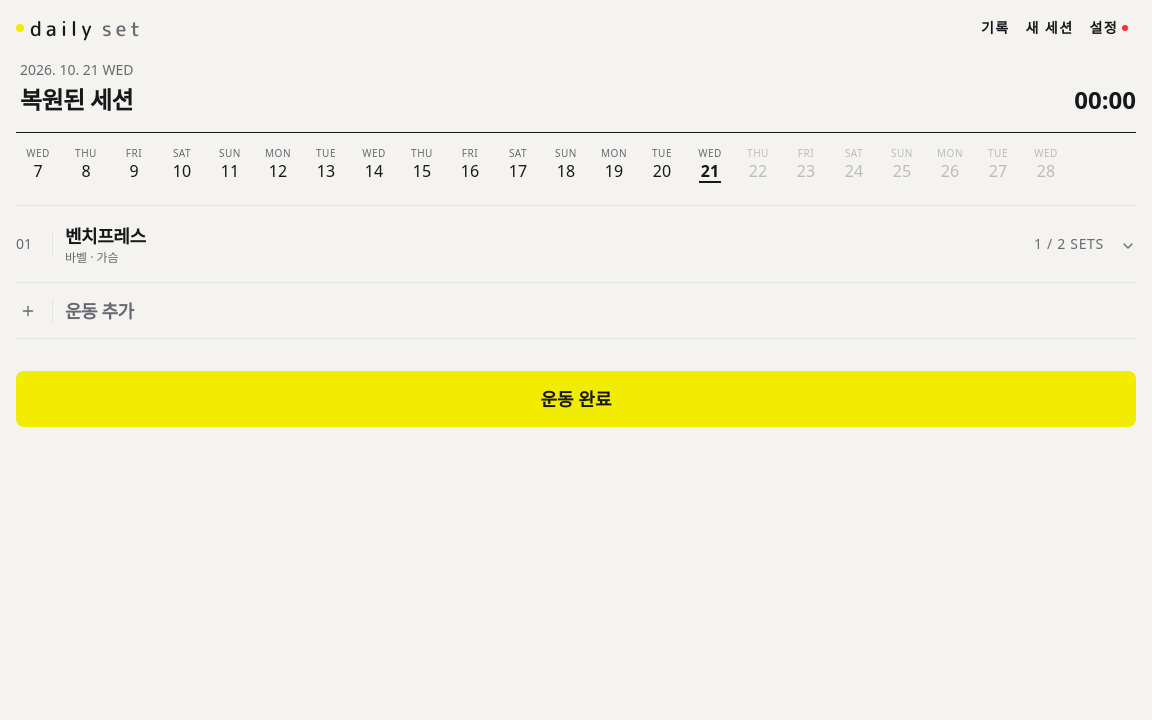
Test: RootClient — 기록(History) › 기록 버튼을 누르면 저장된 세션이 날짜별로 보인다
The width and height of the screenshot is (1152, 720).
Expected: the button "운동 완료" is shown, left=16, top=371, right=1136, bottom=427
Click the button "기록".
click(995, 28)  # box left=973, top=6, right=1018, bottom=50
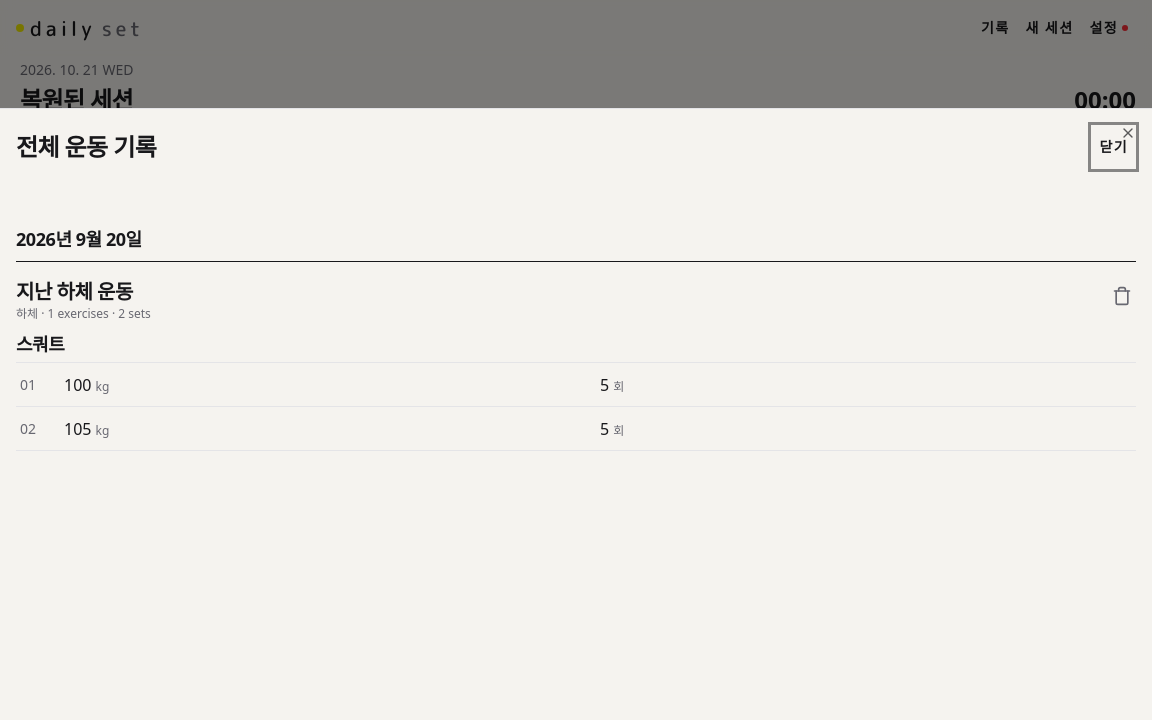
Expected: the heading "지난 하체 운동" is shown, left=16, top=278, right=151, bottom=306
Expected: the text "하체 · 1 exercises · 2 sets" is shown, left=16, top=306, right=151, bottom=322
Expected: the text "스쿼트" is shown, left=16, top=332, right=64, bottom=356
